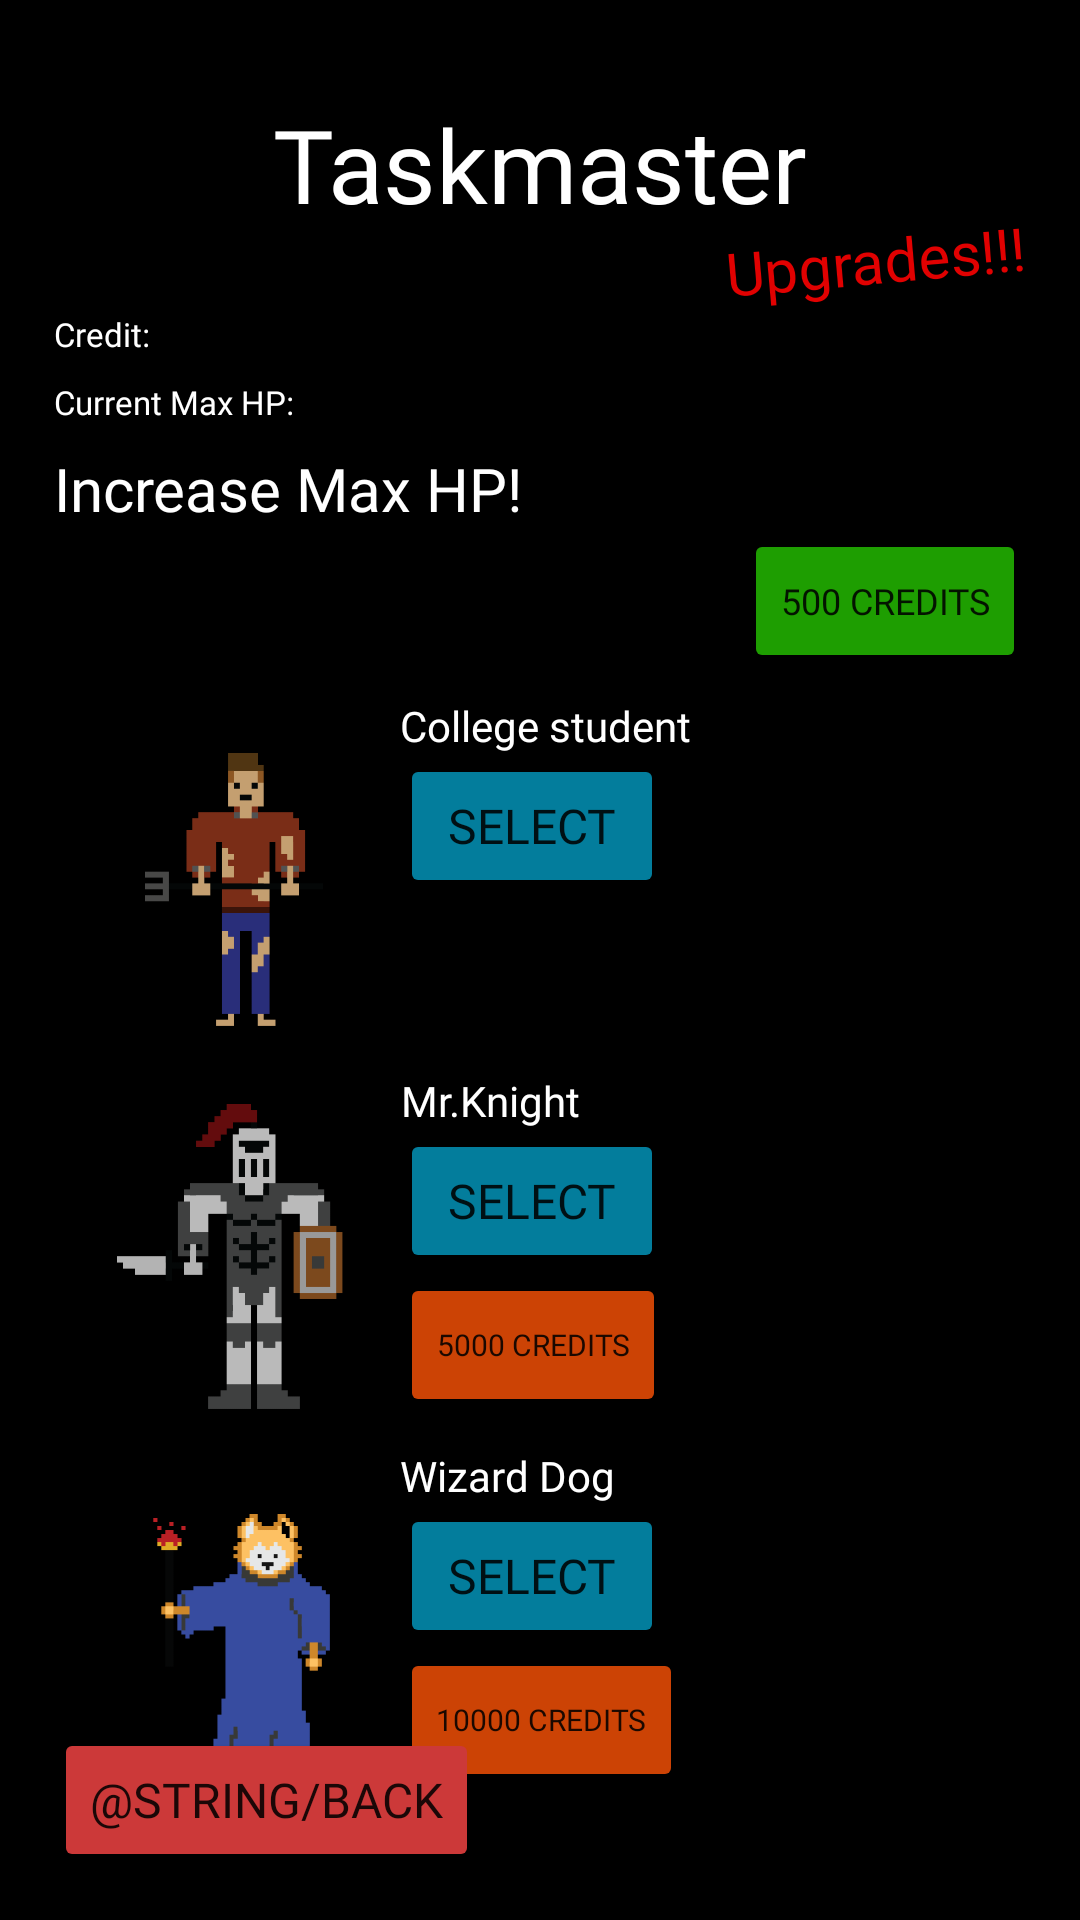

Screen size 1080 × 1920. Icon name, then its center in pixels as [x,y]:
peasant: [285,868]
